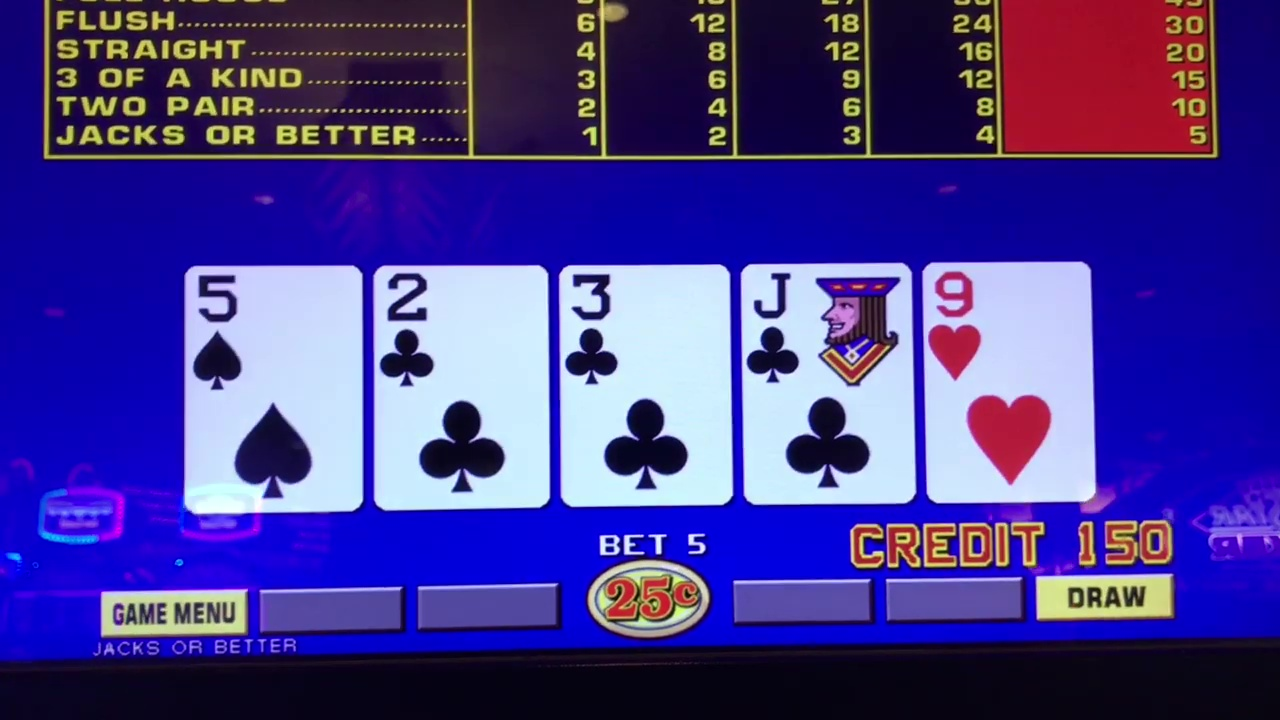C2: (379, 269, 543, 386)
C3: (563, 267, 727, 384)
CJ: (747, 264, 913, 382)
H9: (929, 266, 1086, 381)
S5: (189, 266, 360, 386)
